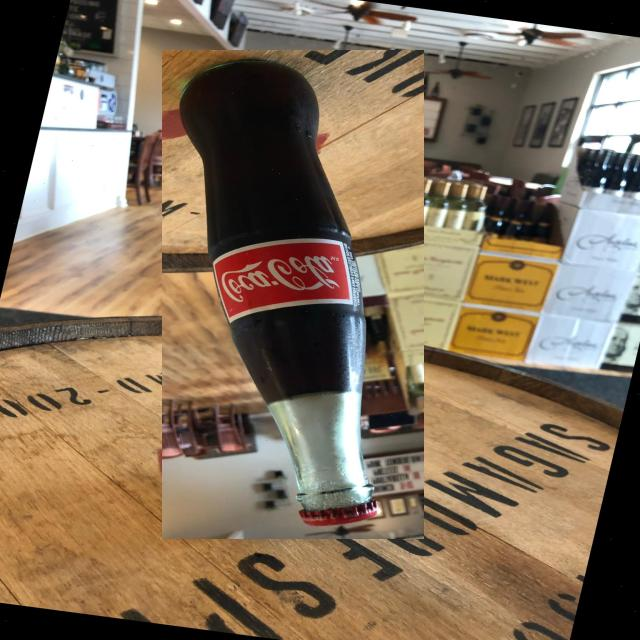coca-cola: (162, 50, 424, 539)
